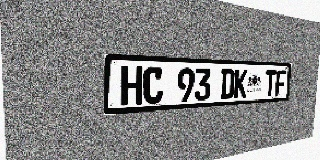3: (194, 68, 211, 101)
9: (177, 67, 195, 102)
C: (143, 67, 163, 104)
D: (220, 69, 235, 99)
F: (275, 70, 286, 96)
H: (120, 66, 143, 106)
K: (234, 69, 247, 99)
T: (264, 70, 276, 97)
